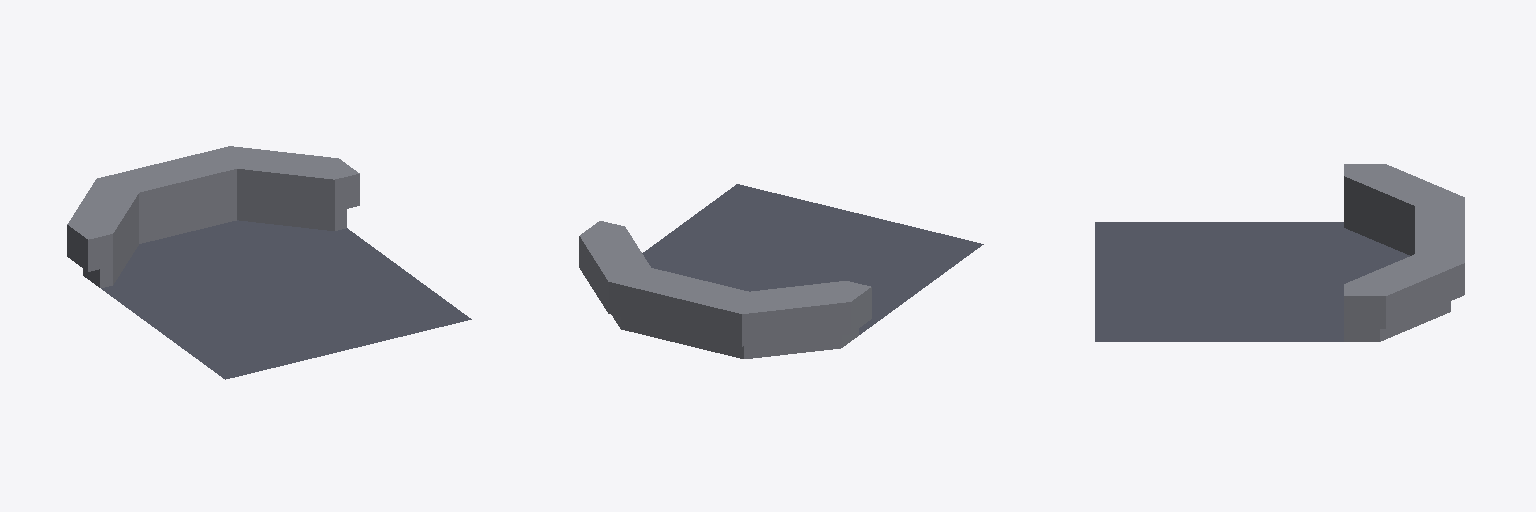
Rendered from roof_overhang.obj.
3 views of the same model, side by side, from view 1: azimuth 30°, elevation 25°; view 2: azimuth 150°, elevation 25°; view 3: azimuth 270°, elevation 25° (orthographic).
Visible parts, largest first — view 1: roof_overhang; view 2: roof_overhang; view 3: roof_overhang.
Boxes of the visible parts, box(x1,y1,x2,y2) form: roof_overhang: box(67, 146, 471, 379); roof_overhang: box(579, 184, 983, 358); roof_overhang: box(1095, 164, 1464, 341).
Bounding box in the file's own units: 0.44 × 0.08 × 0.52.